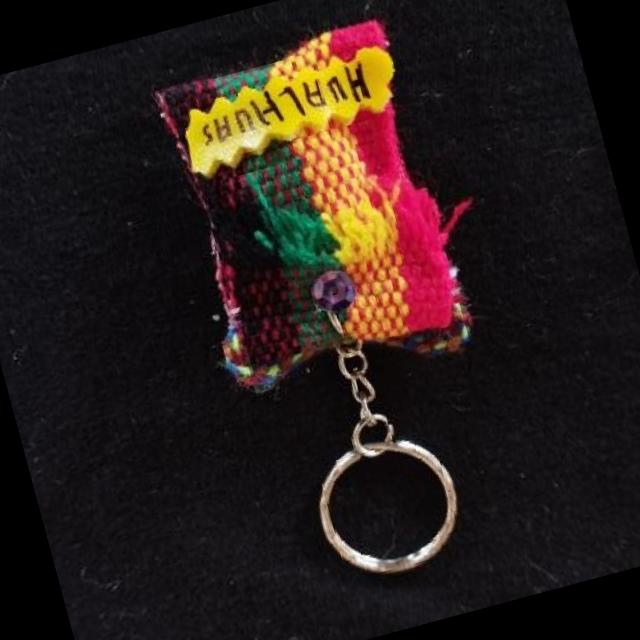Llavero: (142, 5, 506, 414)
